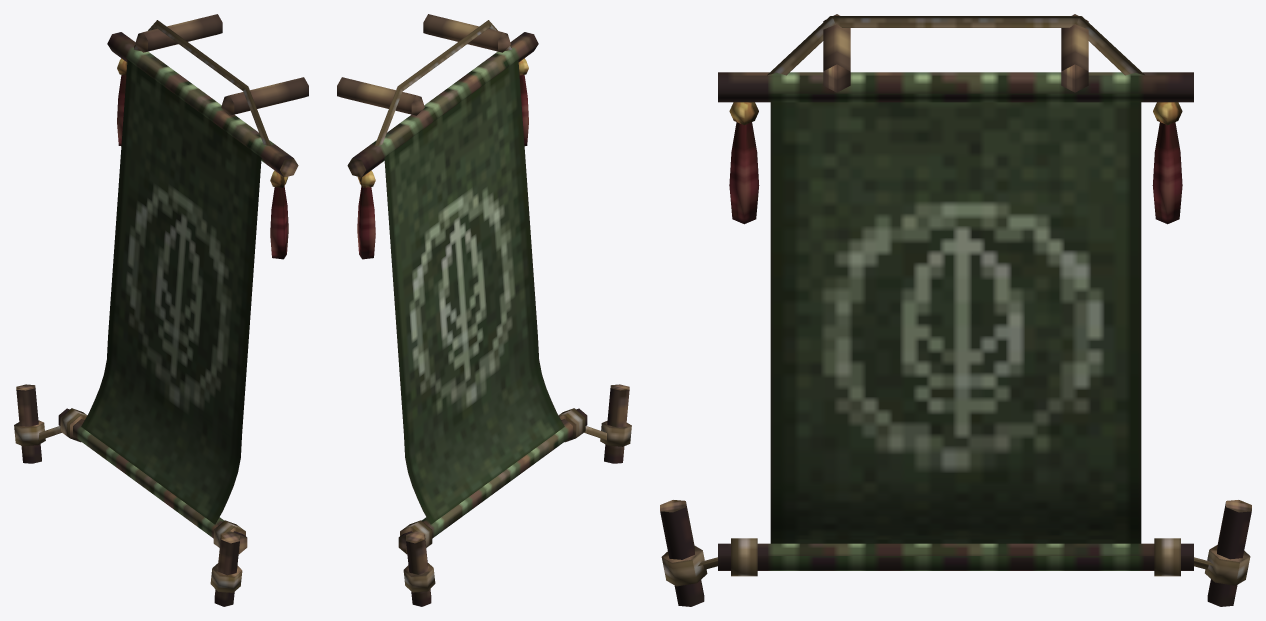
File: EnvObjMD_Kamon_A_Noren_A.FBX
3 views of the same model, side by side, from view 1: azimuth 30°, elevation 25°; view 2: azimuth 150°, elevation 25°; view 3: azimuth 270°, elevation 25° (orthographic). The views are drawn at different scales.
Parts seen in each view (by area): view 1: EnvObjMD_Kamon_A_Noren_A; view 2: EnvObjMD_Kamon_A_Noren_A; view 3: EnvObjMD_Kamon_A_Noren_A.
Part boxes in pixels (bbox=[...]): EnvObjMD_Kamon_A_Noren_A: bbox=[14, 14, 308, 606]; EnvObjMD_Kamon_A_Noren_A: bbox=[337, 14, 631, 606]; EnvObjMD_Kamon_A_Noren_A: bbox=[660, 14, 1251, 606].
Size of the model in its own units: 86.85 by 266 by 224.
Materials: 1 (1 with a texture image).
